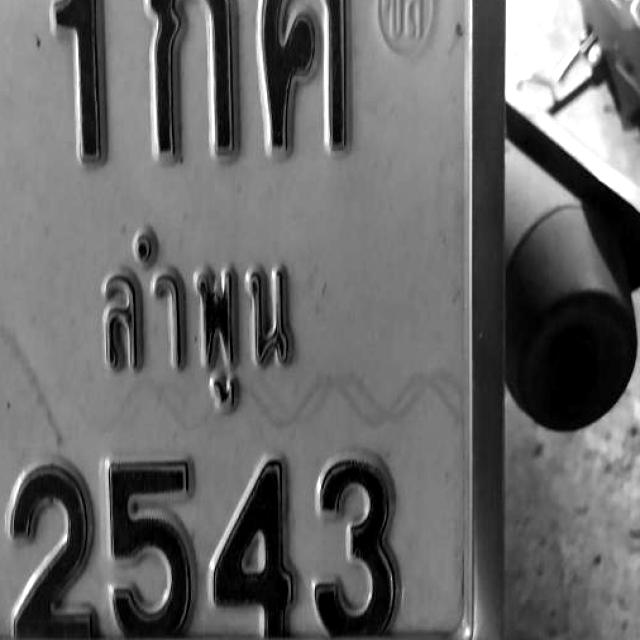letters: (89, 431, 198, 640), (1, 444, 110, 640), (212, 431, 312, 639), (311, 424, 396, 640), (139, 0, 242, 156), (266, 0, 362, 160), (44, 0, 115, 176)
license-plate: (0, 0, 490, 640)
province: (74, 200, 356, 420)
